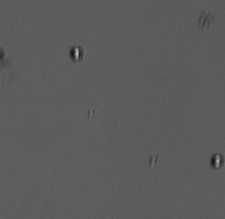Living Cell: (69, 44, 82, 63), (209, 153, 223, 169)
